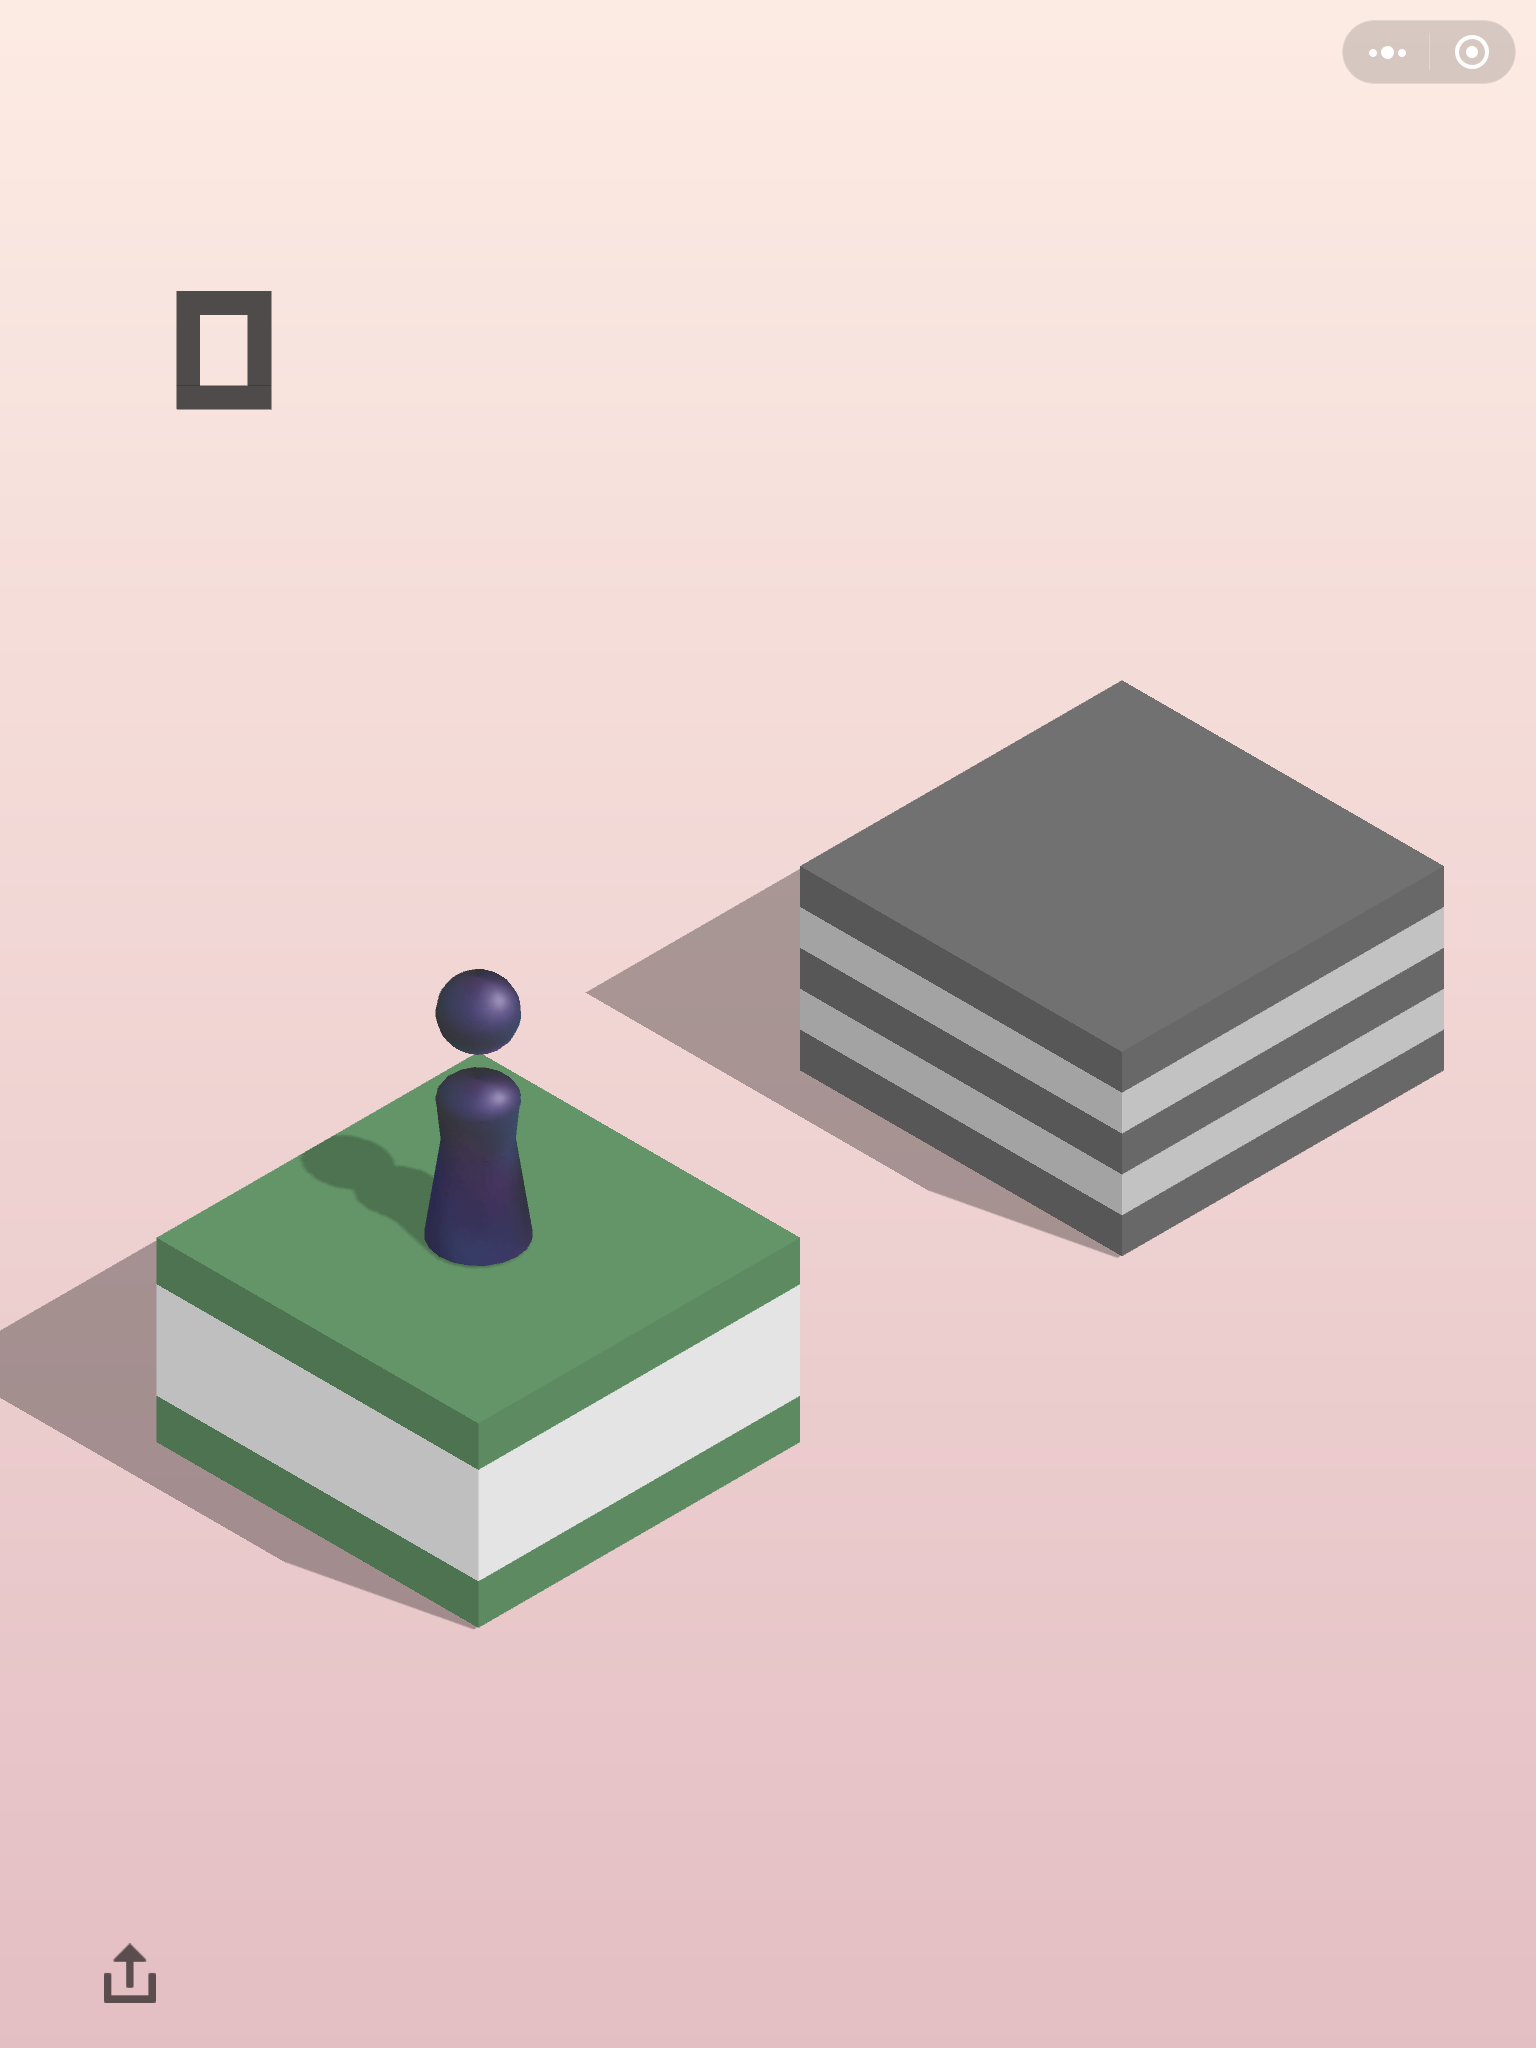f: (147, 1043, 808, 1637), (792, 677, 1449, 1259)
r: (421, 964, 553, 1288)
